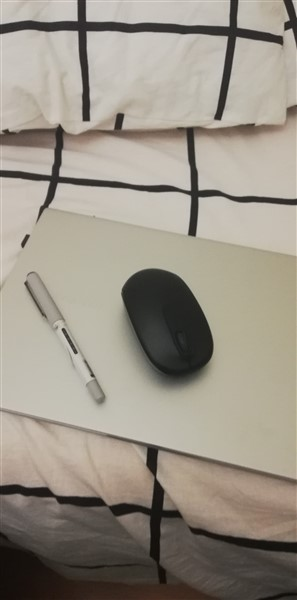laptop: (2, 194, 297, 487)
mouse: (113, 265, 220, 385)
pilot kalem: (23, 273, 115, 413)
